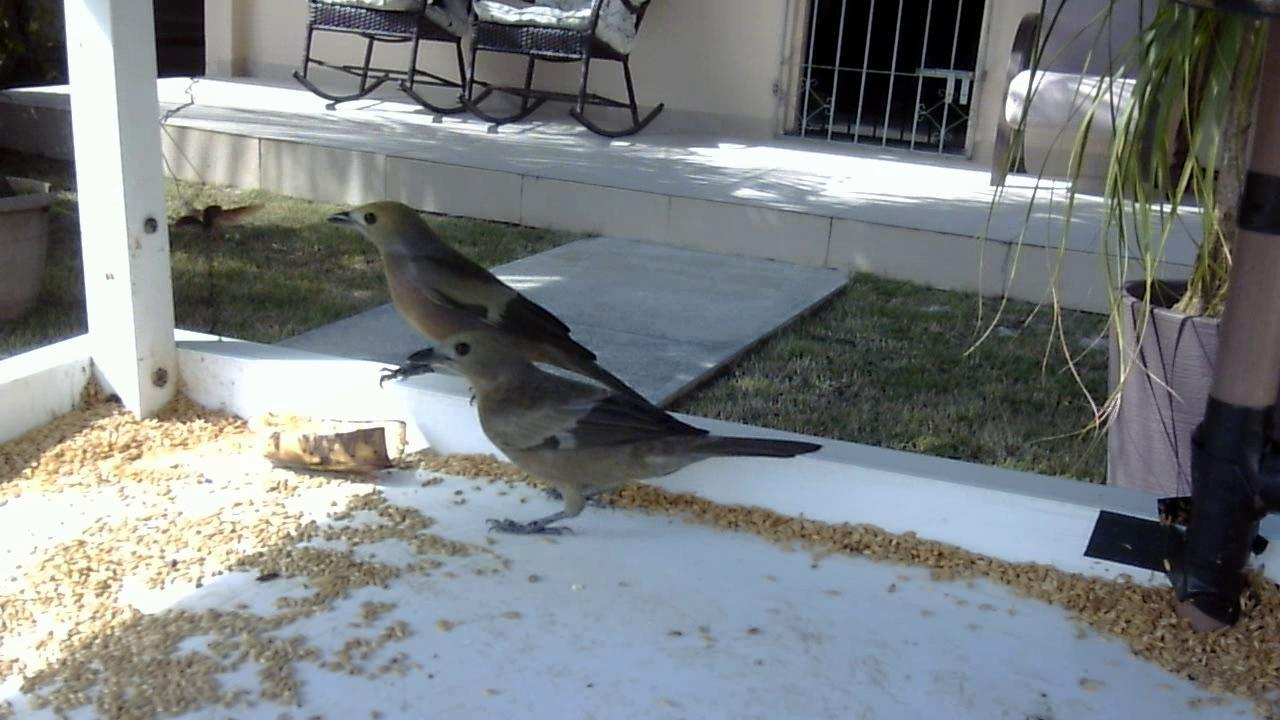sanhaco_do_coqueiro: (408, 326, 822, 549), (330, 196, 600, 395)
